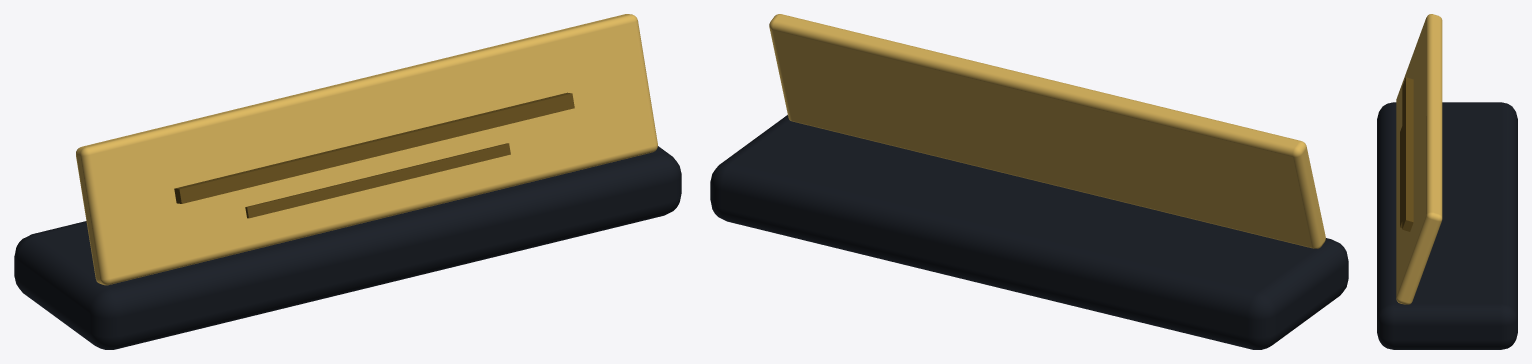
Rendered from plaquinha-mesa.glb.
3 renders of one model, left to right at view 1: azimuth 30°, elevation 25°; view 2: azimuth 150°, elevation 25°; view 3: azimuth 270°, elevation 25°, orthographic. The views are drawn at different scales.
Visible parts, largest first — view 1: plaquinha-mesa_malha; view 2: plaquinha-mesa_malha; view 3: plaquinha-mesa_malha.
Boxes of the visible parts, x1,y1,x2,y2 form: plaquinha-mesa_malha: (14,14,681,349); plaquinha-mesa_malha: (710,14,1348,349); plaquinha-mesa_malha: (1377,14,1517,349).
Size of the model in its own units: 0.36 by 0.1059 by 0.1.
